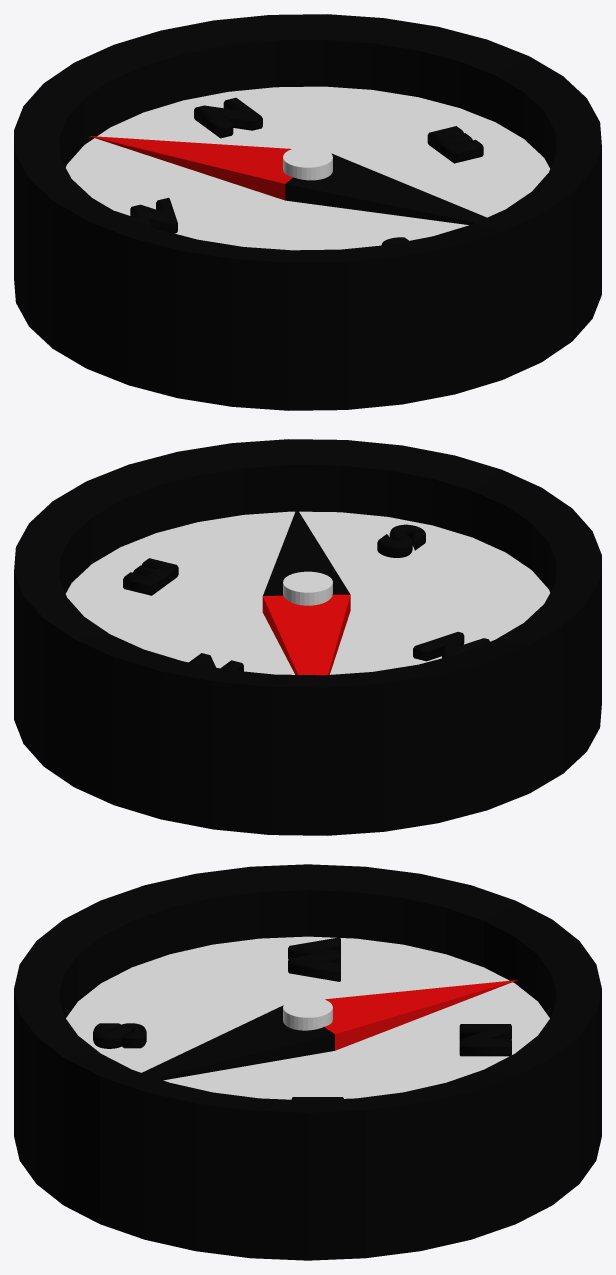
The model's file is Boussole_02.fbx.
3 renders of one model, top to bottom at view 1: azimuth 30°, elevation 25°; view 2: azimuth 150°, elevation 25°; view 3: azimuth 270°, elevation 25°, orthographic.
Visible parts, largest first — view 1: Cylinder, Cube, North, North.003, North.002; view 2: Cylinder, Cube, North.003, North.001, North.002; view 3: Cylinder, Cube, North.002, North, North.001.
Part boxes in pixels (<box>): Cylinder: <box>14,14,601,410</box>; Cube: <box>89,136,486,225</box>; North: <box>194,97,262,138</box>; North.003: <box>427,126,483,163</box>; North.002: <box>115,197,177,233</box>; Cylinder: <box>14,439,601,835</box>; Cube: <box>262,508,350,675</box>; North.003: <box>123,558,178,595</box>; North.001: <box>377,524,425,557</box>; North.002: <box>413,632,489,661</box>; Cylinder: <box>14,864,601,1260</box>; Cube: <box>142,980,517,1080</box>; North.002: <box>288,937,340,981</box>; North: <box>459,1024,511,1056</box>; North.001: <box>93,1023,146,1048</box>.
Bounding box in the file's own units: 1081 × 300 × 1081.
